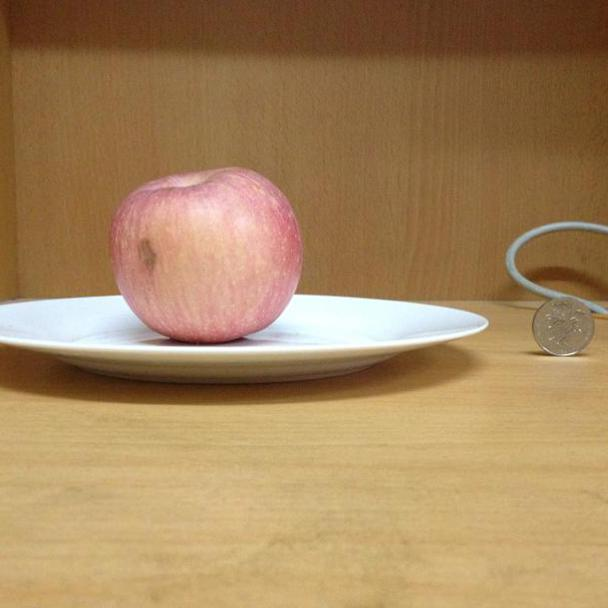apple: (111, 167, 303, 345)
